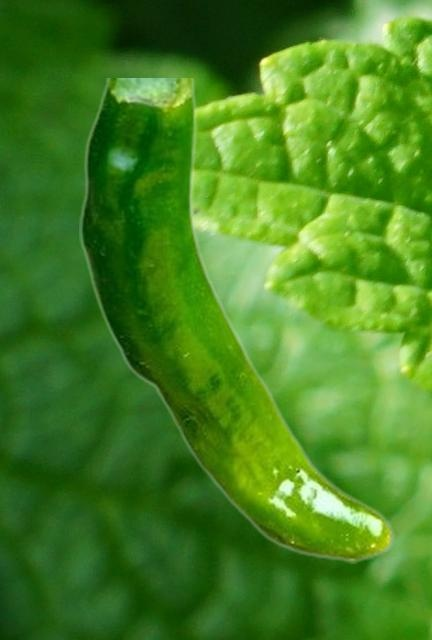green_chili: (79, 78, 393, 562)
